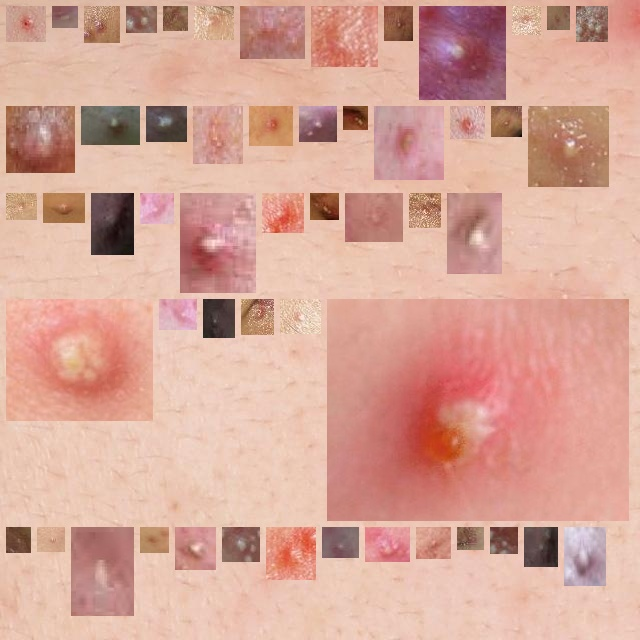pustule: (335, 307, 621, 513), (14, 307, 145, 413), (427, 14, 498, 92), (188, 201, 248, 285), (536, 114, 601, 179), (79, 535, 126, 608), (382, 114, 436, 172), (14, 114, 67, 165), (455, 201, 494, 266), (319, 14, 370, 59), (248, 14, 297, 51), (201, 114, 235, 156), (353, 201, 395, 234), (274, 535, 308, 572), (99, 201, 126, 247), (572, 535, 598, 578), (89, 114, 132, 137), (183, 535, 208, 562), (257, 114, 285, 138), (270, 201, 296, 225), (373, 535, 402, 554), (205, 307, 227, 330), (154, 114, 179, 134), (14, 14, 38, 34), (288, 307, 313, 326), (307, 114, 329, 134), (202, 14, 226, 32), (532, 535, 550, 559), (92, 14, 112, 35), (230, 535, 252, 554), (51, 201, 77, 215), (249, 307, 266, 327), (167, 307, 189, 322), (458, 114, 477, 131), (584, 14, 600, 34), (330, 535, 351, 550), (417, 201, 433, 220), (424, 535, 443, 551), (148, 201, 166, 216), (392, 14, 405, 33), (499, 114, 514, 129), (520, 14, 533, 27), (134, 14, 149, 25), (14, 201, 29, 212), (318, 201, 331, 212), (498, 535, 510, 546), (148, 535, 161, 545), (45, 535, 57, 544), (14, 535, 23, 545), (171, 14, 180, 23), (465, 535, 476, 542), (351, 114, 360, 122), (60, 14, 70, 20), (555, 14, 562, 22)
